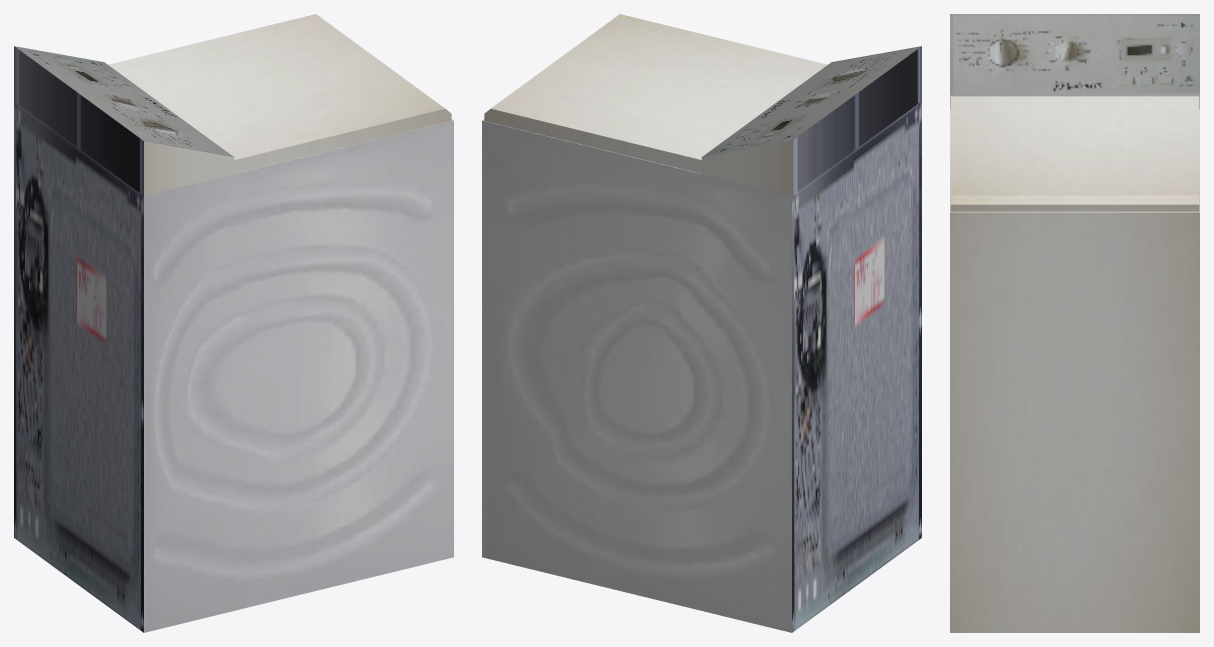
File: washer.FBX
3 renders of one model, left to right at view 1: azimuth 30°, elevation 25°; view 2: azimuth 150°, elevation 25°; view 3: azimuth 270°, elevation 25°, orthographic. The views are drawn at different scales.
Parts seen in each view (by area): view 1: Object004, Object005, Object001, Object003, Box001; view 2: Object004, Object005, Object001, Object003, Box001; view 3: Box001, Object001, Object003.
Boxes of the visible parts, x1=… form: Object004: x1=144, y1=120, x2=453, y2=632; Object005: x1=14, y1=46, x2=143, y2=632; Object001: x1=108, y1=14, x2=451, y2=173; Object003: x1=14, y1=46, x2=233, y2=156; Box001: x1=144, y1=119, x2=453, y2=195; Object004: x1=482, y1=120, x2=791, y2=632; Object005: x1=792, y1=46, x2=921, y2=632; Object001: x1=484, y1=14, x2=827, y2=173; Object003: x1=702, y1=46, x2=921, y2=156; Box001: x1=482, y1=119, x2=791, y2=195; Box001: x1=950, y1=93, x2=1199, y2=632; Object001: x1=950, y1=96, x2=1199, y2=211; Object003: x1=950, y1=14, x2=1199, y2=93.
Bounding box in the file's own units: 88.26 × 134 × 64.04.
6 materials, 6 textured.
